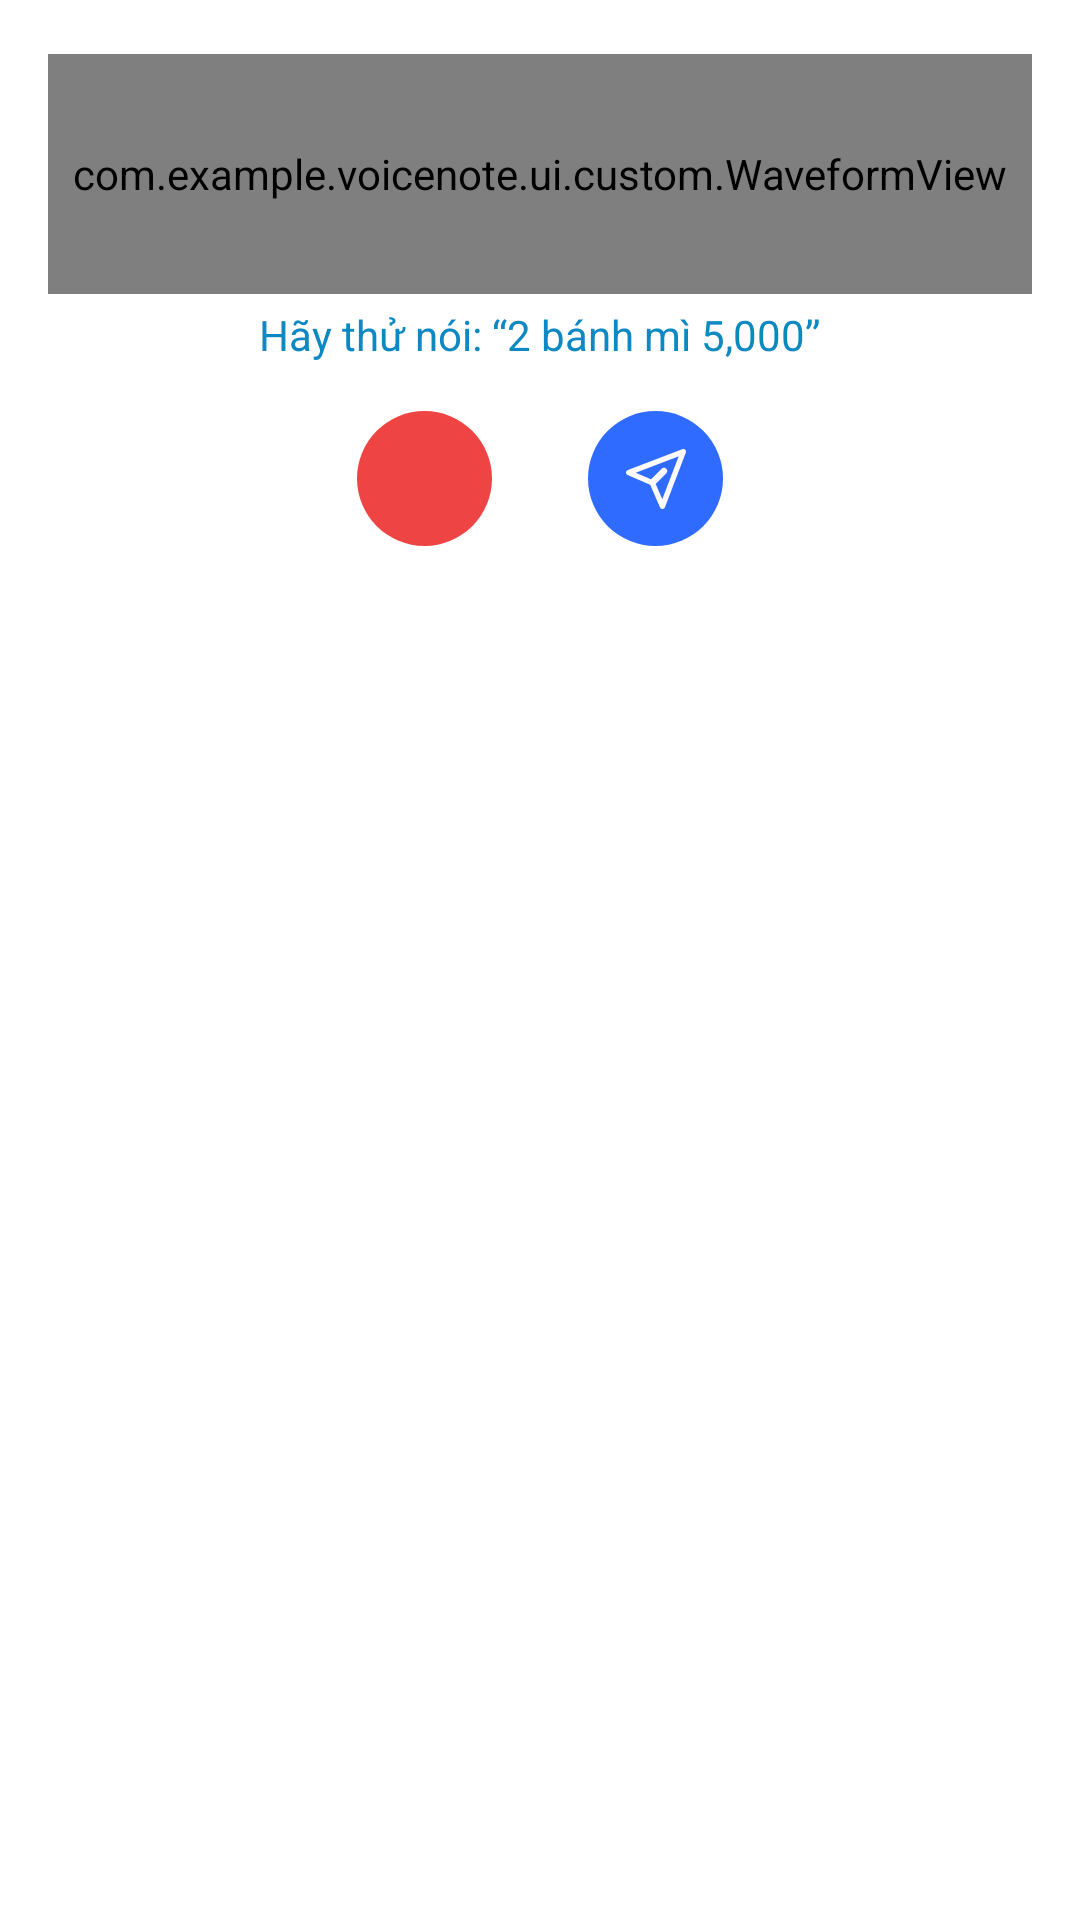

Named icons in this screenshot (1080x1920) and their centers, [x,y]:
send: [655,478]
